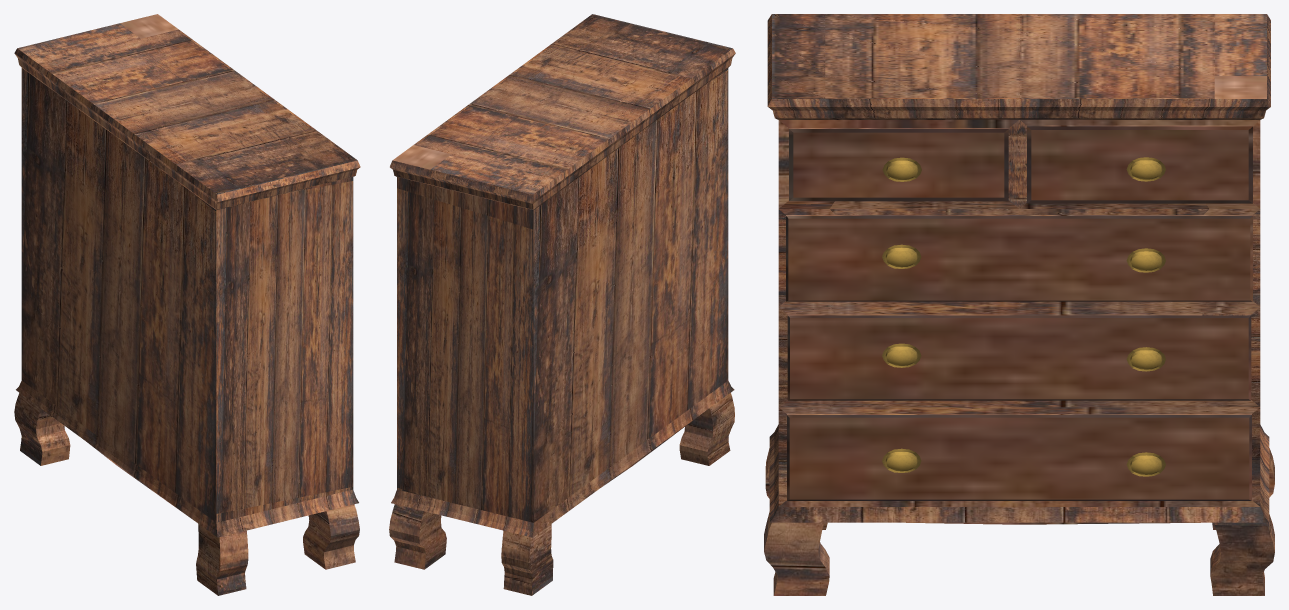
Rendered from Mueble.fbx.
3 views of the same model, side by side, from view 1: azimuth 30°, elevation 25°; view 2: azimuth 150°, elevation 25°; view 3: azimuth 270°, elevation 25° (orthographic). The views are drawn at different scales.
Parts seen in each view (by area): view 1: Cube; view 2: Cube; view 3: Cube, Cube.002, Cube.003, Cube.004, Cube.007, Cube.005, Cube.001, Cube.006, Cube.008.
Part boxes in pixels (x1,y1,x2,y2): Cube: (14, 14, 360, 595); Cube: (389, 14, 735, 595); Cube: (764, 14, 1274, 595); Cube.002: (1126, 157, 1165, 181); Cube.003: (1126, 248, 1165, 272); Cube.004: (1126, 347, 1165, 371); Cube.007: (882, 343, 921, 367); Cube.005: (1126, 452, 1165, 476); Cube.001: (882, 157, 921, 181); Cube.006: (882, 448, 921, 472); Cube.008: (882, 244, 921, 268).
Size of the model in its own units: 69.69 by 178 by 166.
2 materials, 2 textured.
